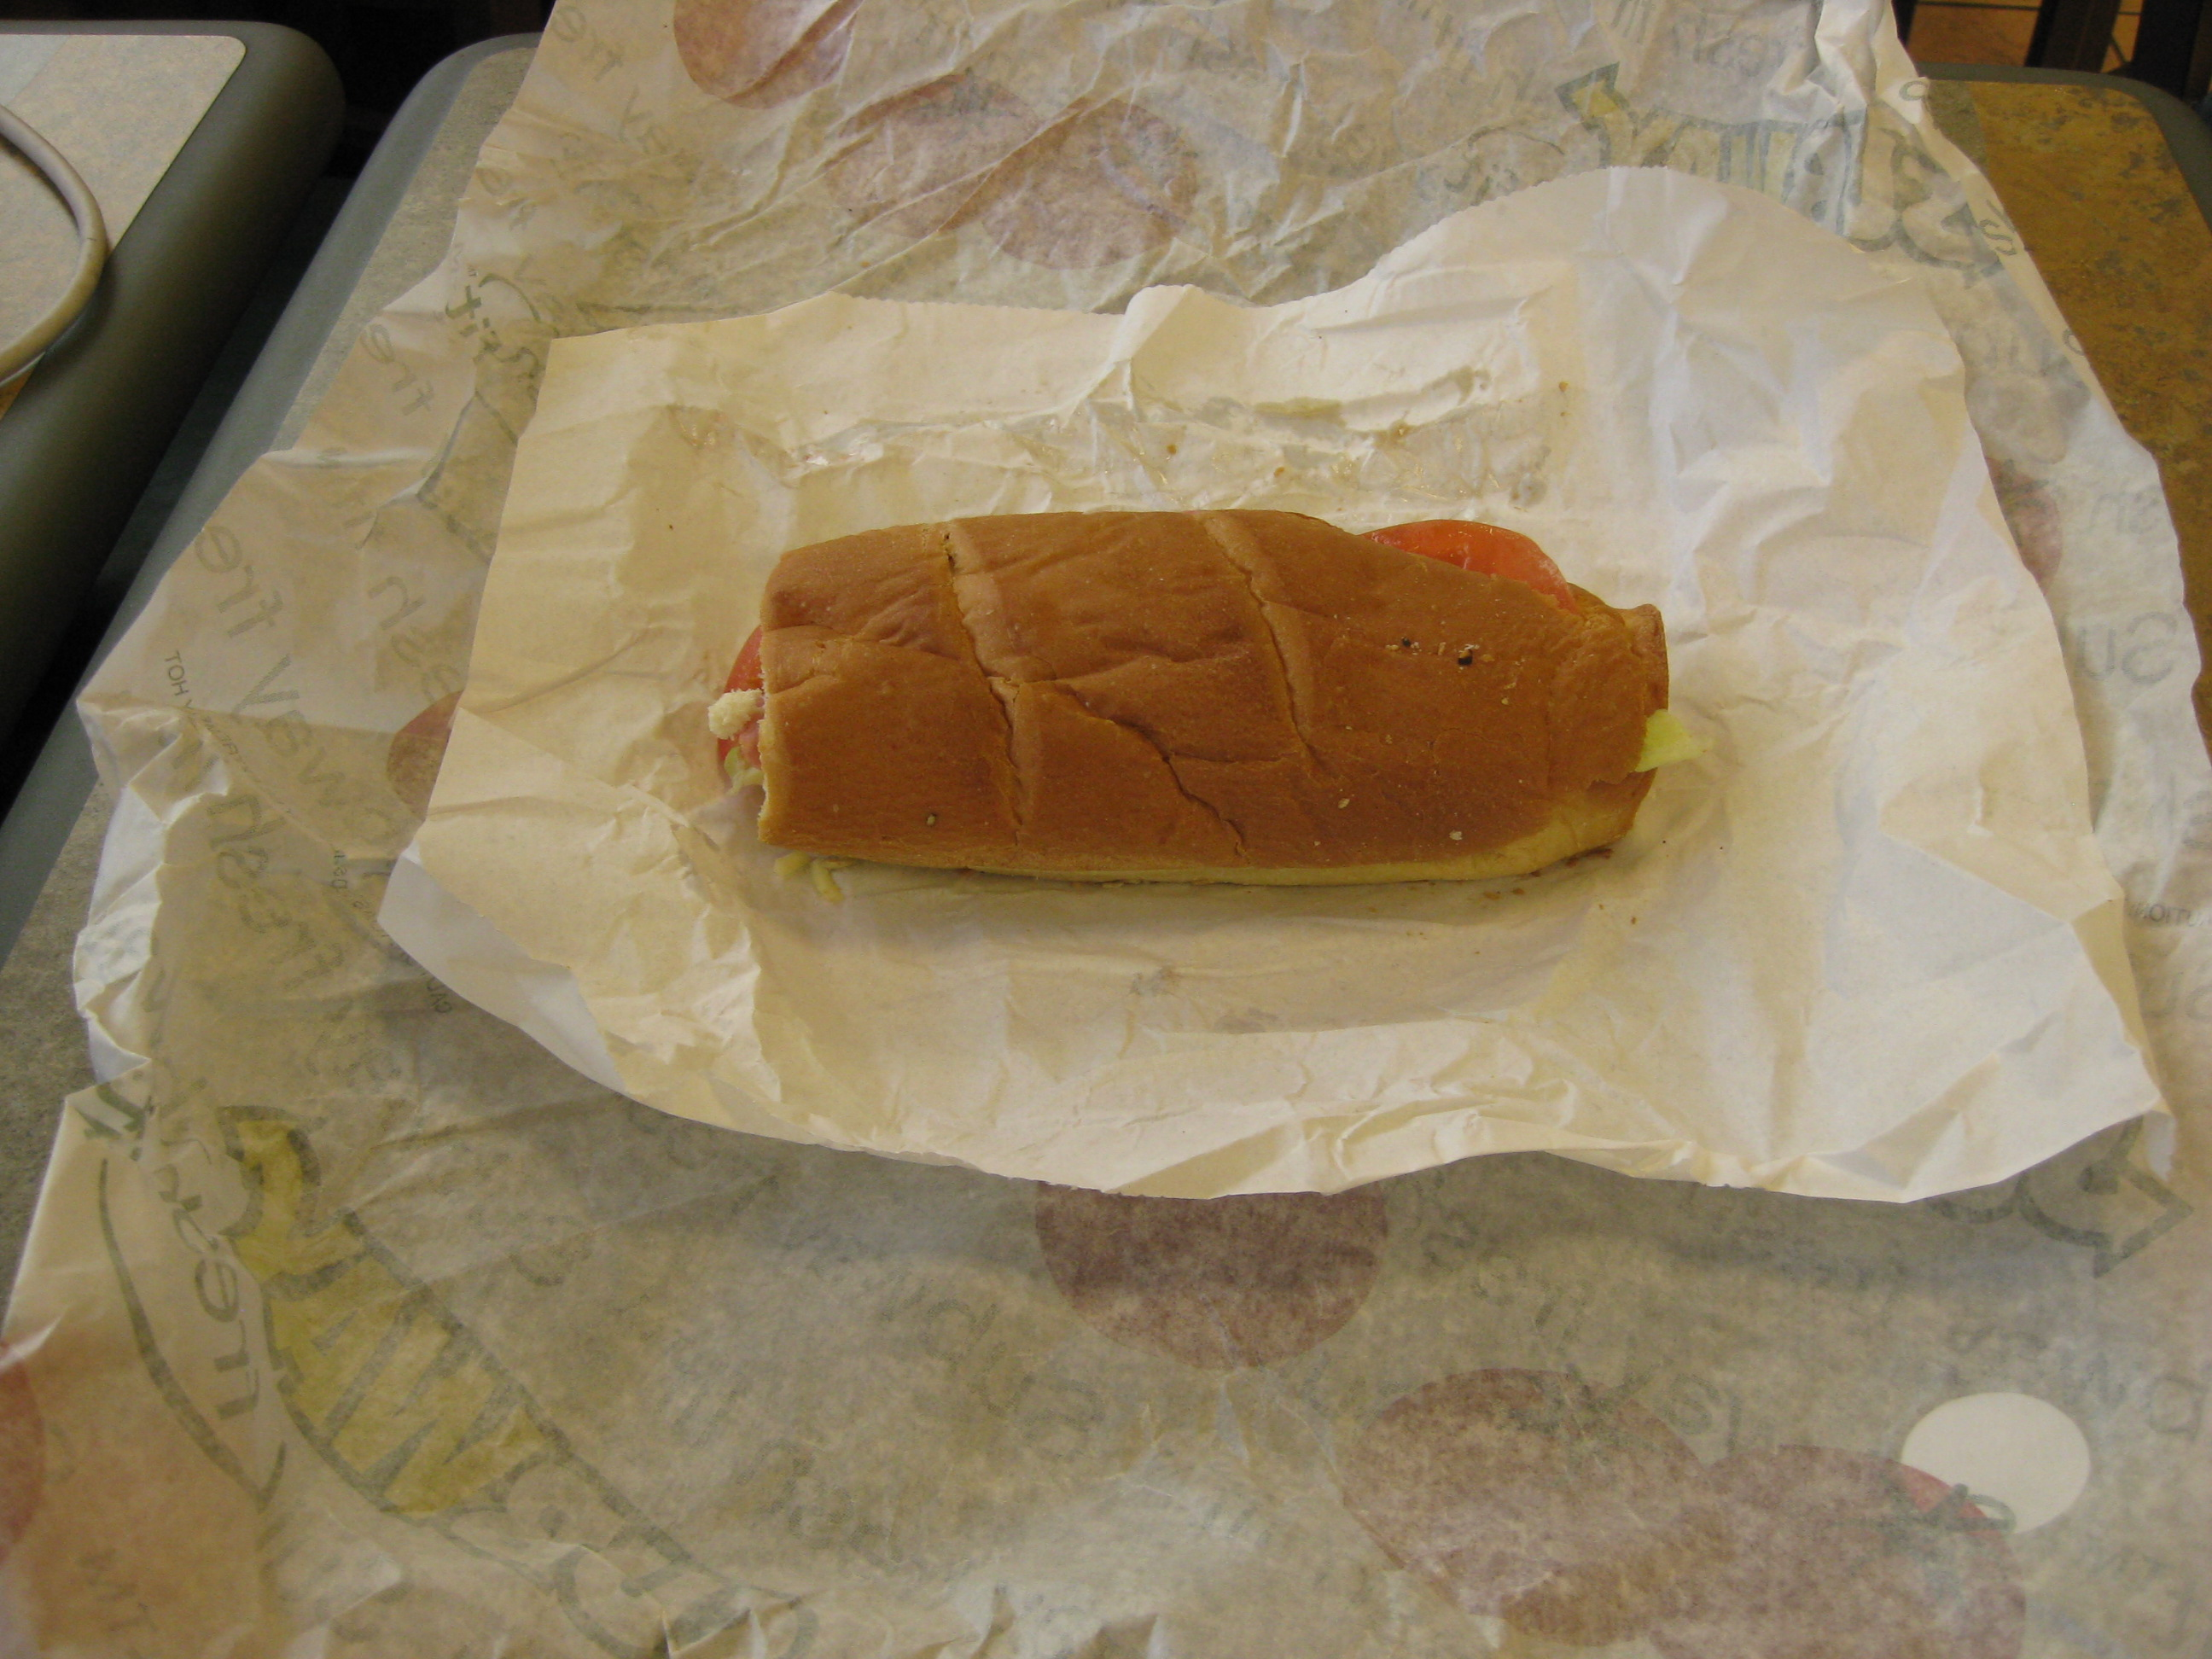sub: (690, 517, 1743, 902)
